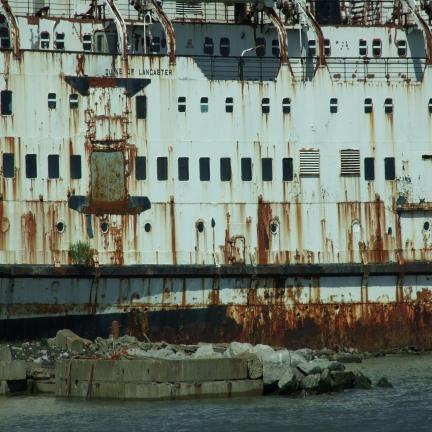karat: (118, 300, 432, 359)
